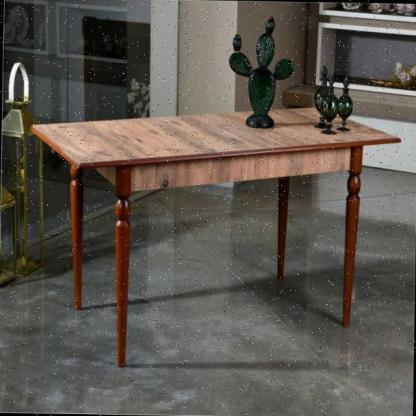Table: (13, 61, 414, 383)
